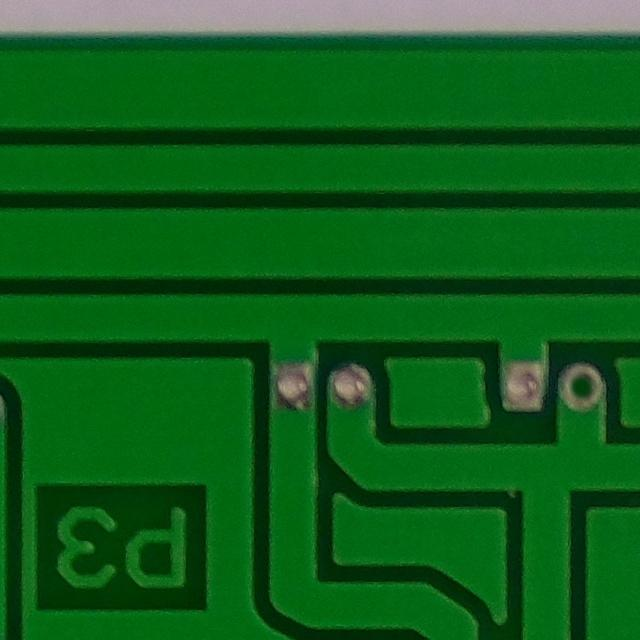missing_hole: (551, 341, 619, 419)
